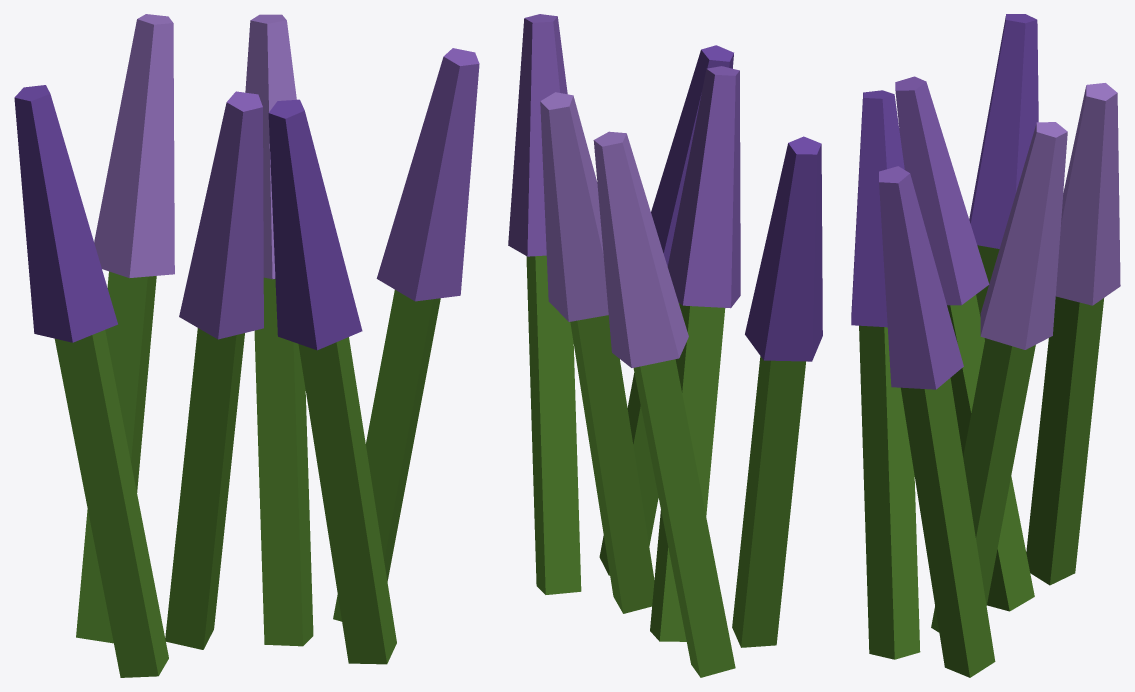
Rendered from p_flower_5.glb.
The picture shows the model from 3 angles, left to right: view 1: azimuth 30°, elevation 25°; view 2: azimuth 150°, elevation 25°; view 3: azimuth 270°, elevation 25°; orthographic projection. The views are drawn at different scales.
Visible parts, largest first — view 1: body; view 2: body; view 3: body.
Boxes of the visible parts, x1=… form: body: x1=14, y1=14, x2=479, y2=677; body: x1=508, y1=14, x2=822, y2=677; body: x1=851, y1=14, x2=1120, y2=677.
Size of the model in its own units: 0.3494 by 0.4988 by 0.2324.
